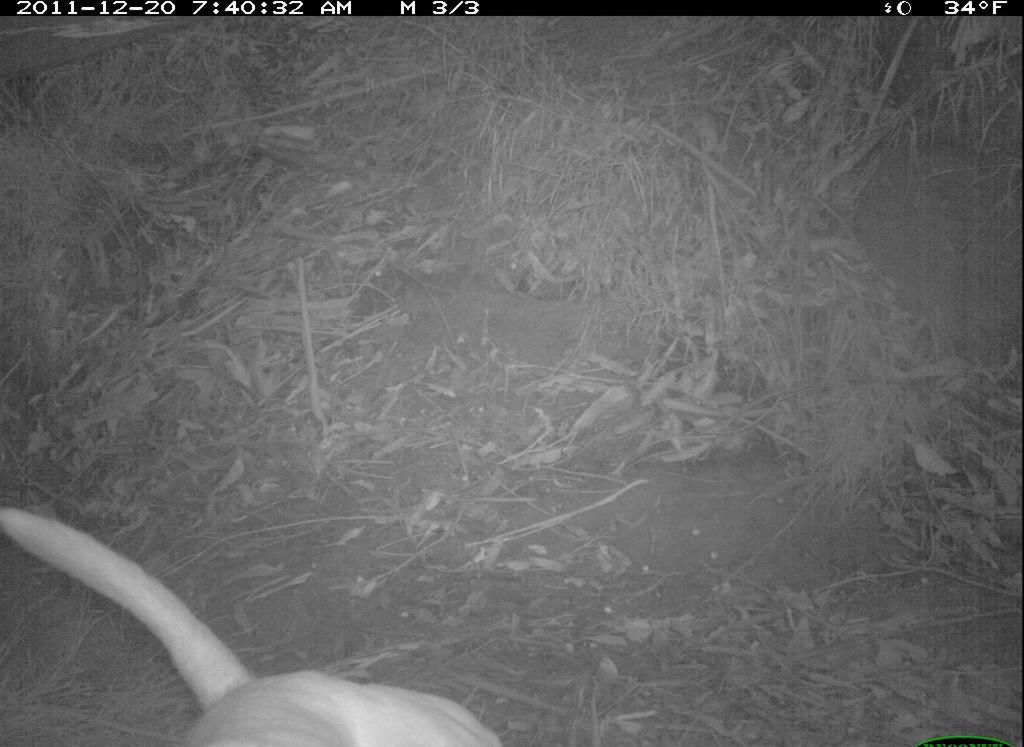dog: (10, 471, 529, 747)
